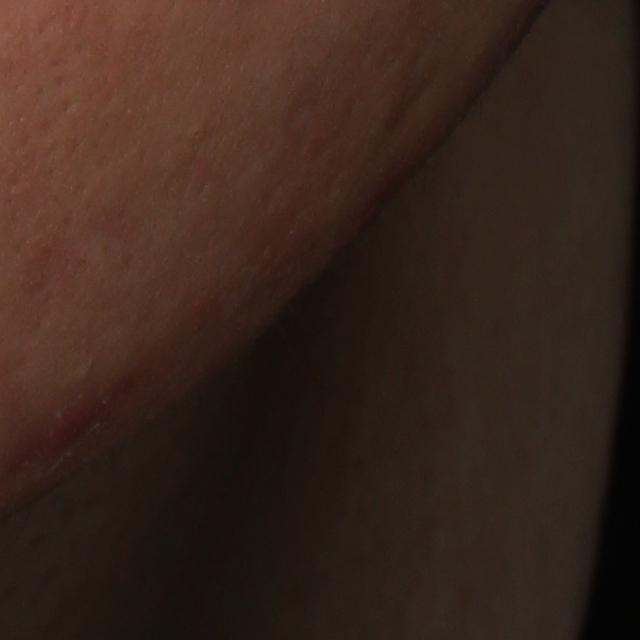papule: (31, 394, 101, 458)
